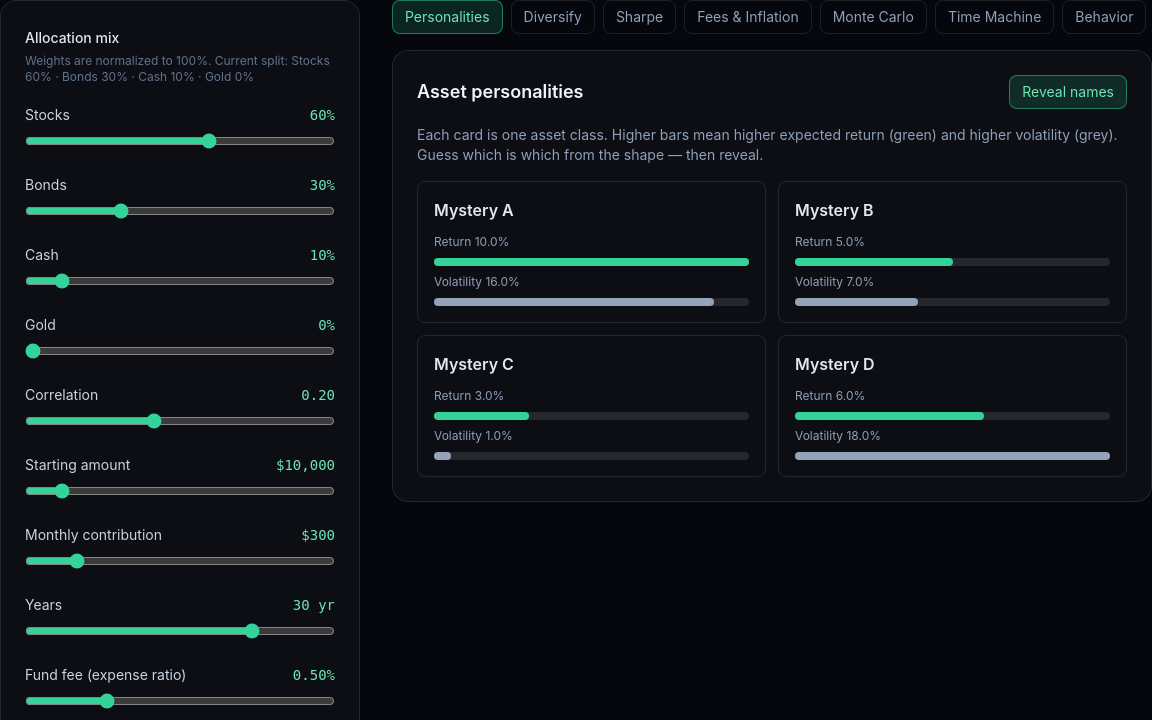
Test: PortfolioSandbox — Monte Carlo cone (predict-first gate) › hides the cone until a guess is committed
Click the tab "Monte Carlo" at [873, 17], box [820,0,927,34]
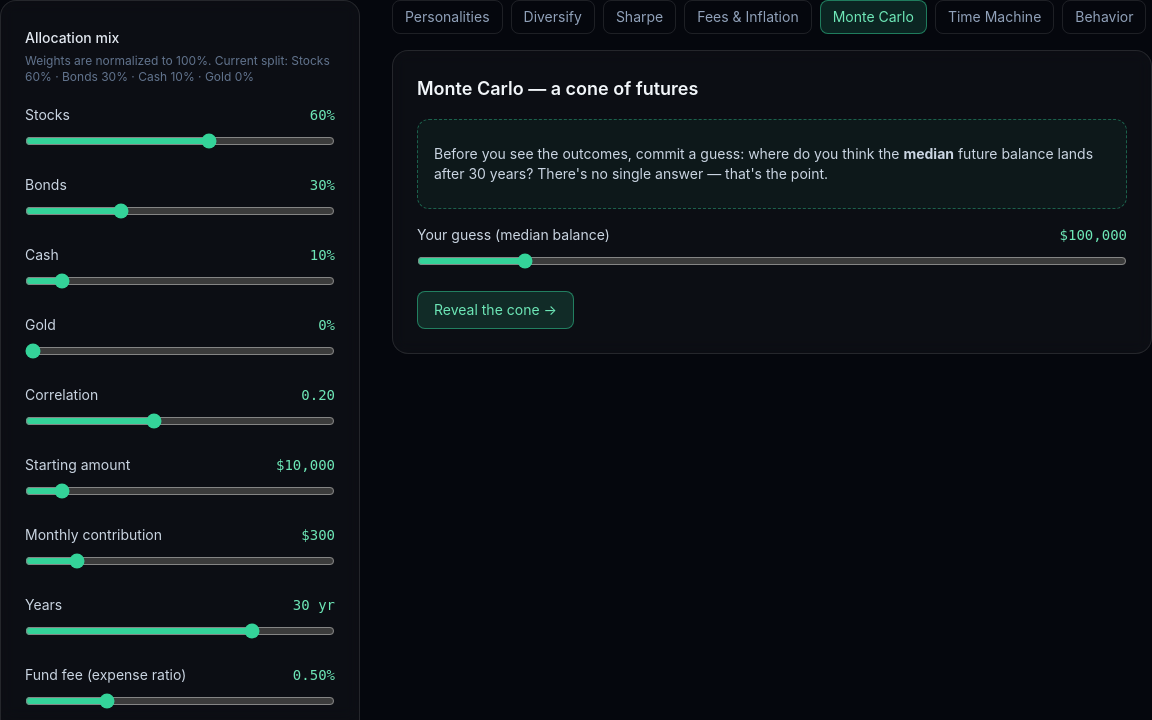
Expected: the text "Median (p50)" is not shown
Expected: the text "commit a guess" is shown, [434,145,900,162]
Click the button "Reveal the cone →" at [495, 310], box [417,291,574,329]
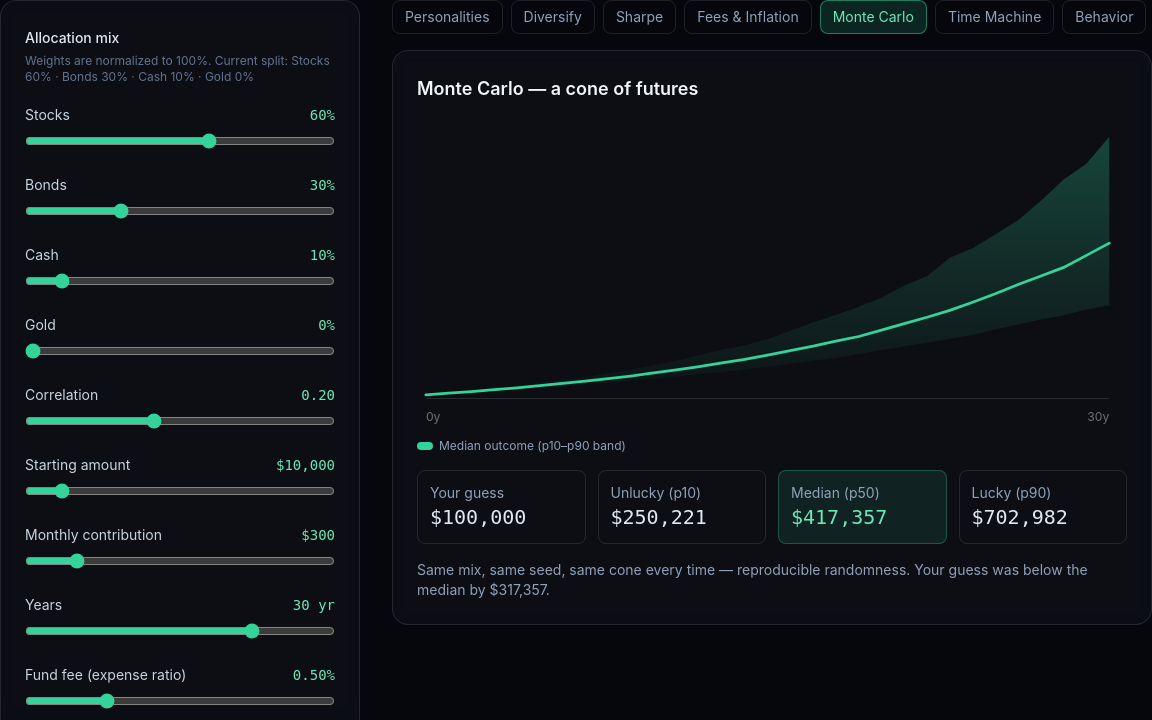
Expected: the text "Median (p50)" is shown, [791,484,880,501]
Expected: the picture named "simulated futures" is shown, [417,119,1127,430]
